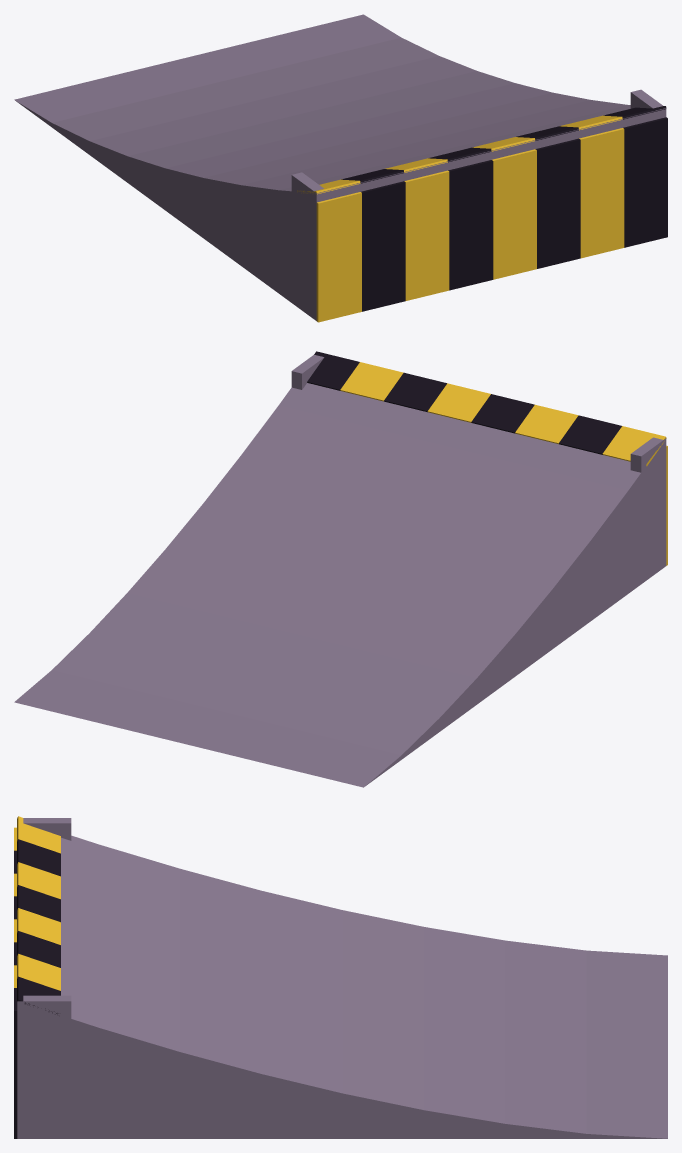
The model's file is ramp.glb.
The picture shows the model from 3 angles, top to bottom: view 1: azimuth 30°, elevation 25°; view 2: azimuth 150°, elevation 25°; view 3: azimuth 270°, elevation 25°; orthographic projection. The views are drawn at different scales.
Visible parts, largest first — view 1: ramp; view 2: ramp; view 3: ramp.
Boxes of the visible parts, x1,y1,x2,y2 form: ramp: [14, 14, 667, 322]; ramp: [14, 351, 667, 787]; ramp: [14, 816, 667, 1138].
Size of the model in its own units: 4 by 1.42 by 6.03.
